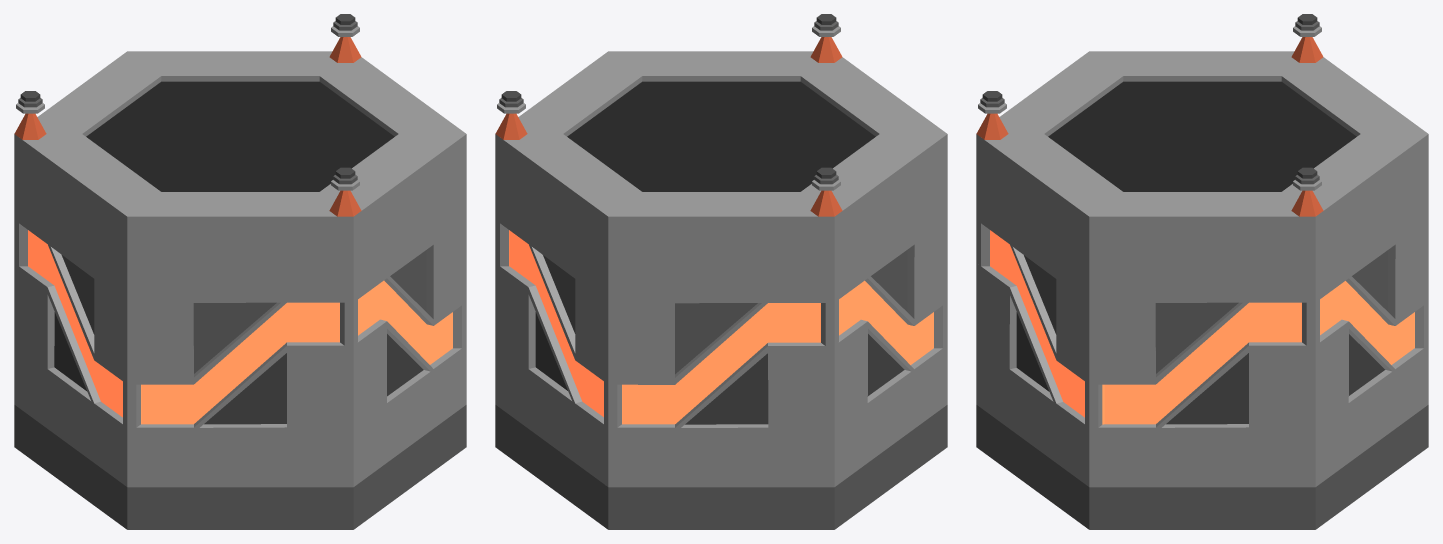
The model's file is Storage.fbx.
3 renders of one model, left to right at view 1: azimuth 30°, elevation 25°; view 2: azimuth 150°, elevation 25°; view 3: azimuth 270°, elevation 25°, orthographic.
Parts seen in each view (by area): view 1: StorageMain, StorageTop, Base, DesignInner, TriUpper, TriLower, InsulatorCone, InsulatorLower, InsulatorUpper; view 2: StorageMain, StorageTop, Base, DesignInner, TriLower, TriUpper, InsulatorCone, InsulatorLower, InsulatorUpper; view 3: StorageMain, StorageTop, Base, DesignInner, TriUpper, TriLower, InsulatorCone, InsulatorLower, InsulatorUpper.
Boxes of the visible parts, x1,y1,x2,y2 form: StorageMain: [14, 51, 466, 487]; StorageTop: [86, 81, 394, 191]; Base: [14, 405, 466, 529]; DesignInner: [28, 230, 452, 424]; TriUpper: [61, 250, 426, 373]; TriLower: [54, 312, 423, 424]; InsulatorCone: [14, 37, 361, 216]; InsulatorLower: [16, 26, 359, 190]; InsulatorUpper: [20, 14, 355, 178]; StorageMain: [495, 51, 947, 487]; StorageTop: [567, 81, 875, 191]; Base: [495, 405, 947, 529]; DesignInner: [509, 230, 933, 424]; TriLower: [535, 312, 904, 424]; TriUpper: [543, 250, 907, 374]; InsulatorCone: [495, 37, 842, 216]; InsulatorLower: [497, 26, 840, 190]; InsulatorUpper: [501, 14, 836, 178]; StorageMain: [976, 51, 1428, 487]; StorageTop: [1048, 81, 1356, 191]; Base: [976, 405, 1428, 529]; DesignInner: [990, 230, 1414, 424]; TriUpper: [1024, 250, 1388, 373]; TriLower: [1016, 312, 1385, 424]; InsulatorCone: [976, 37, 1323, 216]; InsulatorLower: [978, 26, 1321, 190]; InsulatorUpper: [982, 14, 1317, 178].
Bounding box in the file's own units: 173 × 172 × 200.
